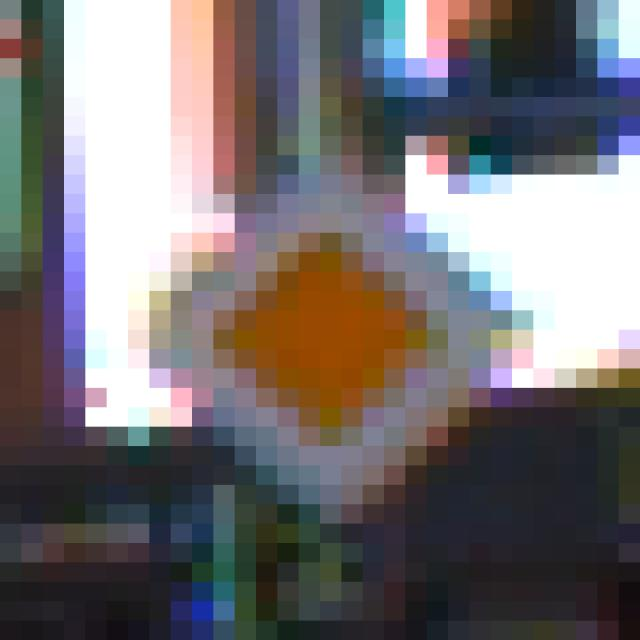Main Road: (108, 117, 534, 544)
